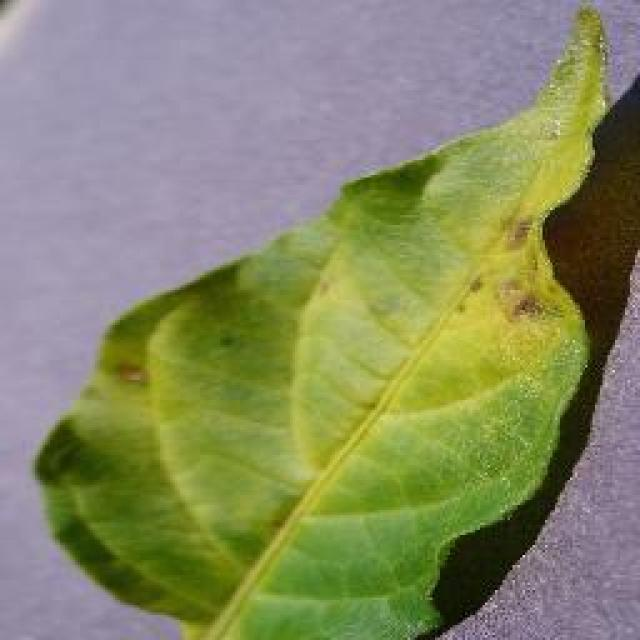Chilli_Bacterial_Spot: (28, 0, 618, 638), (452, 210, 562, 332), (490, 273, 548, 325), (110, 355, 150, 390), (505, 290, 545, 325), (503, 212, 535, 250), (0, 0, 22, 22)
